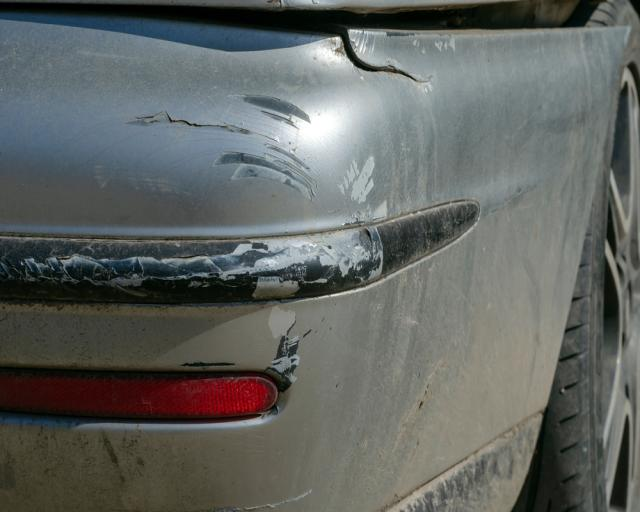crack: (338, 29, 433, 84)
scratch: (15, 83, 395, 394)
